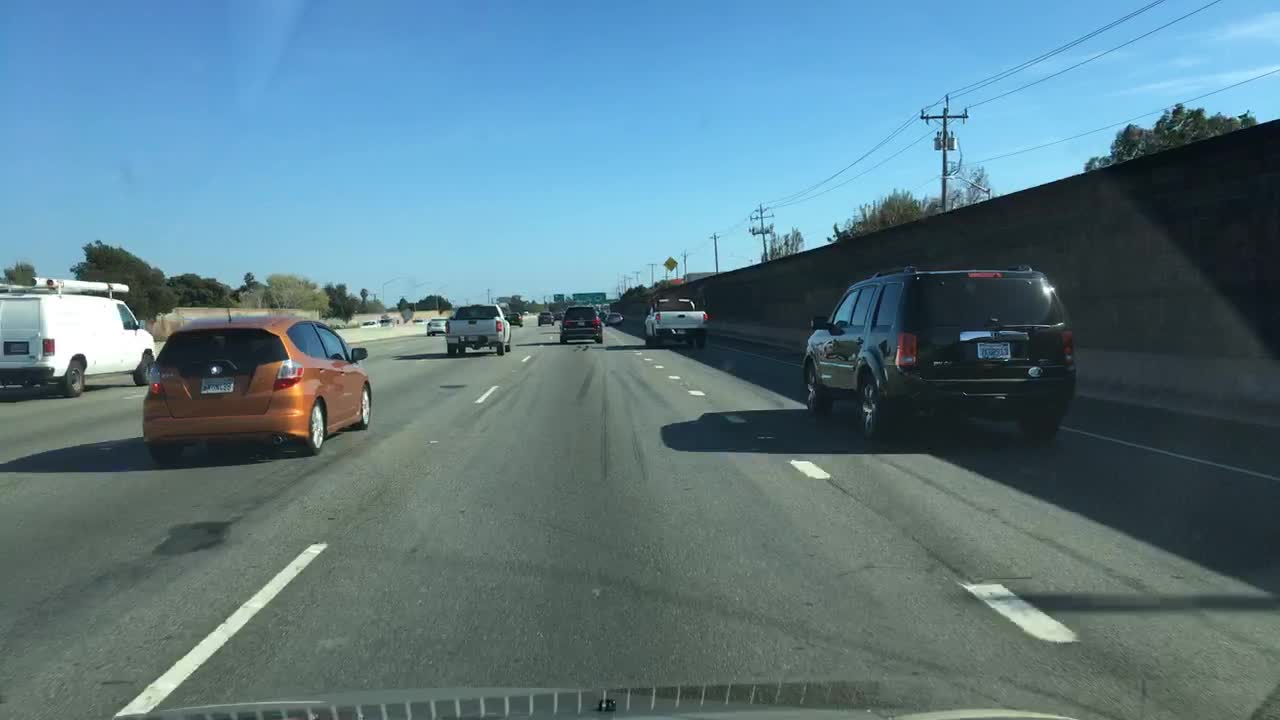car: (800, 260, 1078, 444), (140, 308, 371, 467), (0, 275, 157, 396), (556, 306, 603, 347), (425, 314, 448, 336), (604, 312, 626, 328), (536, 309, 555, 327), (504, 311, 523, 327), (359, 317, 380, 328), (380, 316, 396, 326), (556, 305, 566, 318), (410, 318, 425, 324)
traffic sign: (573, 289, 608, 302), (663, 256, 680, 273), (401, 305, 413, 322), (553, 290, 566, 302)
truck: (442, 301, 513, 356), (642, 295, 710, 350)
